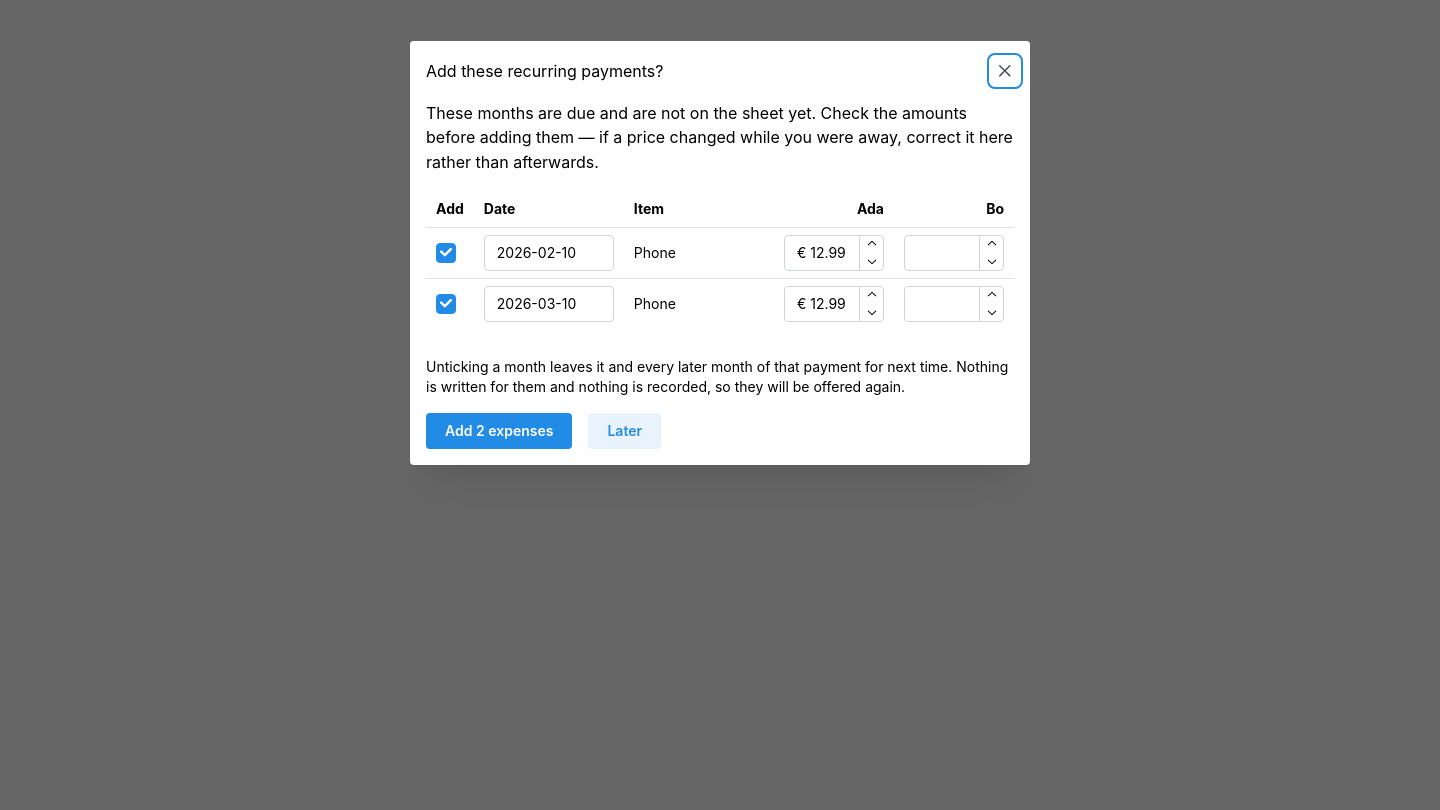
RecurringPrompt › brings the earlier months back when a later one is ticked again
Click the checkbox named "Add Phone in 2026-02".
click(446, 253)  # box [436,243,456,263]
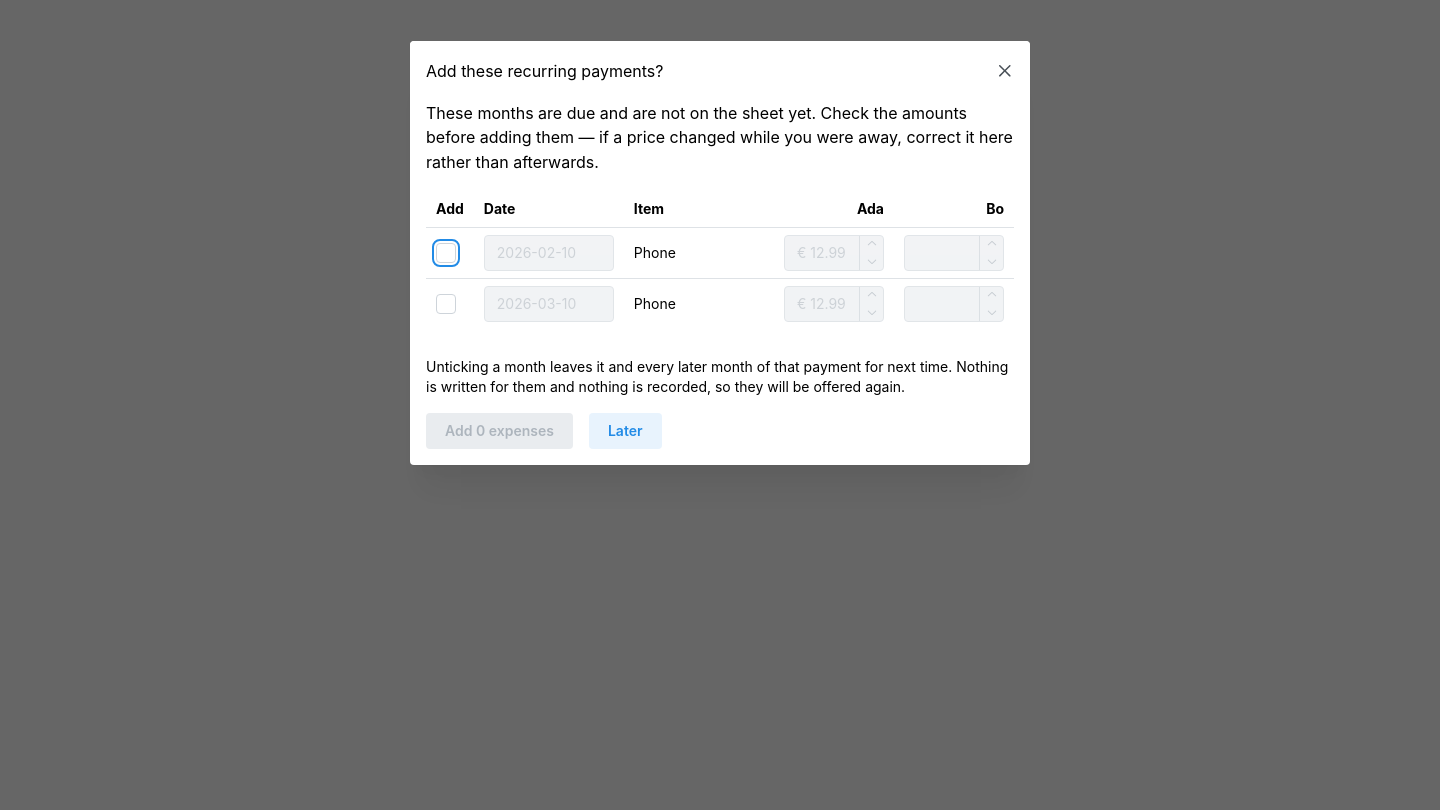
Click the checkbox named "Add Phone in 2026-03".
click(446, 304)  # box [436,294,456,314]
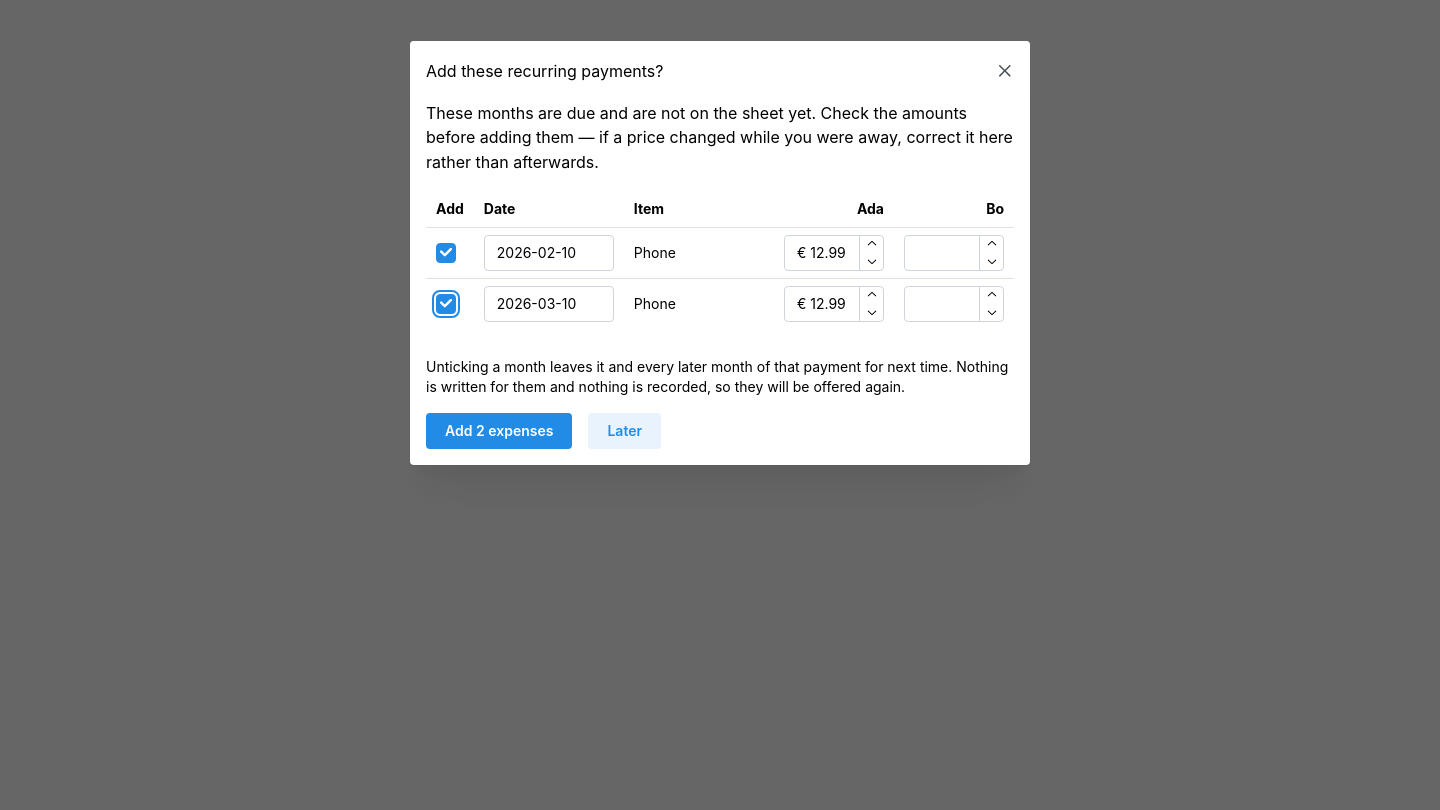
Expected: the checkbox named "Add Phone in 2026-02" is checked, [436,243,456,263]
Expected: the button "Add 2 expenses" is enabled, [426,413,572,449]
